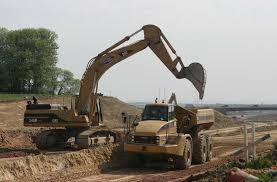excavator: (21, 23, 210, 153)
truck: (125, 97, 212, 171)
